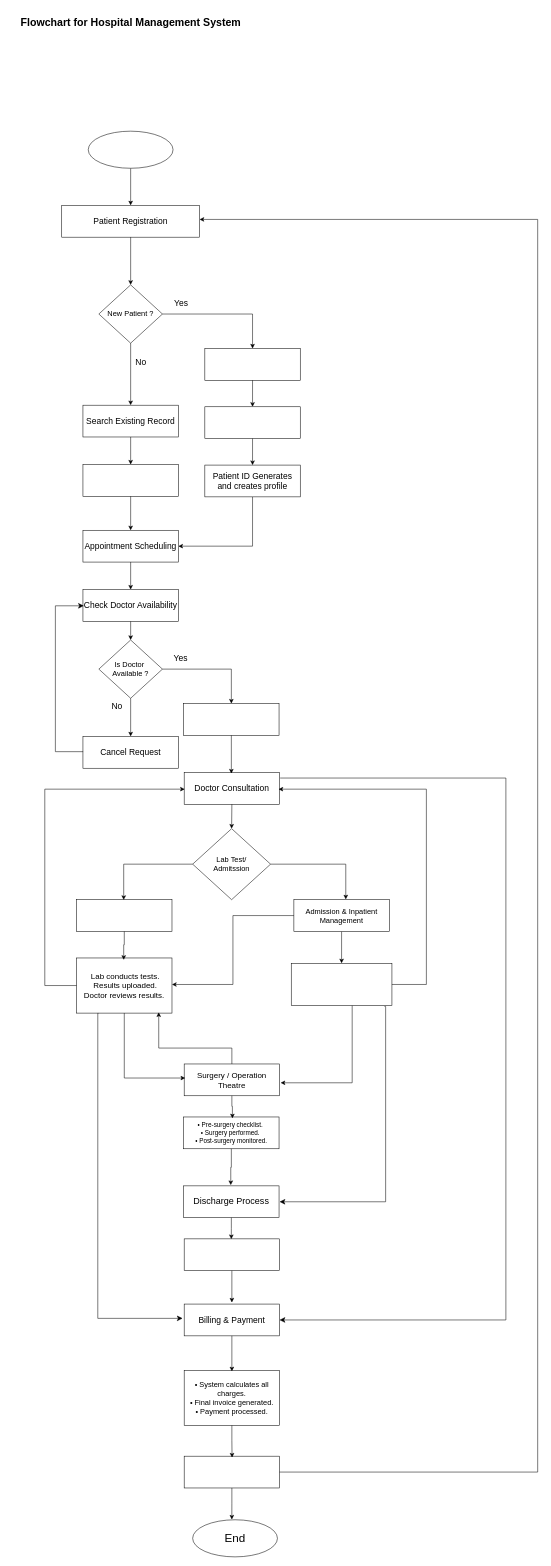
Some shapes in this 551 by 1566 pixel diagram are drawn without their labels. Each missing label, with the box of its shape:
Book Appointment: (183, 703, 279, 735)
Collect Full Details: (204, 348, 300, 380)
Enter data in system: (204, 406, 300, 439)
Follow-Up: (184, 1456, 280, 1488)
Lab Tests: (76, 899, 172, 931)
Start: (88, 131, 173, 168)
Verify Patient Details: (82, 464, 178, 496)
• Discharge summary prepared. • Patient receives reports & medicines.: (184, 1238, 280, 1271)
• Room/ward allocated. • Daily vitals, medication & treatment recorded: (291, 963, 392, 1006)
